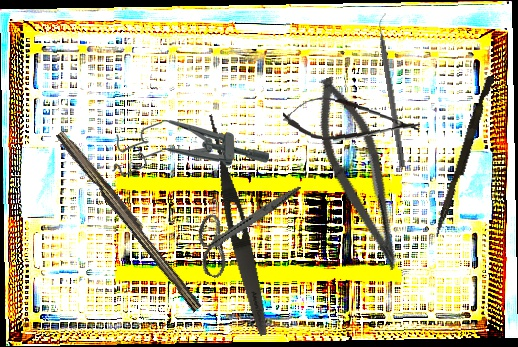Chopper: (375, 12, 414, 168)
Dressing Forceps: (199, 112, 274, 338)
Iris Scissors: (184, 157, 302, 296)
Micro Scissor: (297, 70, 425, 277), (281, 93, 422, 148)
Pusher: (433, 73, 495, 241)
Scalpel Handle: (52, 127, 208, 313)
Speculum: (111, 118, 270, 177)
